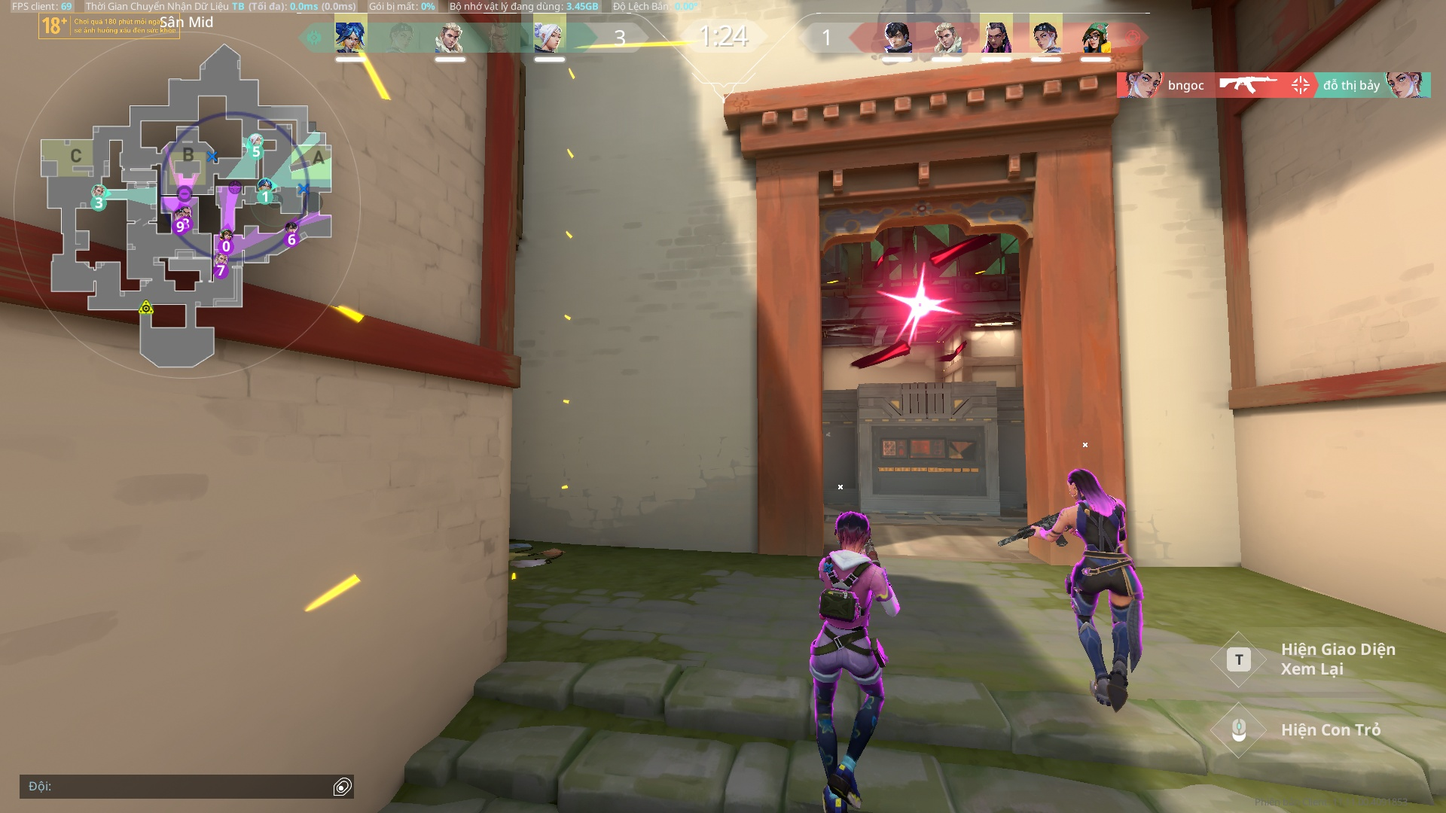body: (815, 550, 884, 632), (1072, 495, 1134, 562)
head: (828, 507, 874, 551), (1060, 465, 1100, 500)
